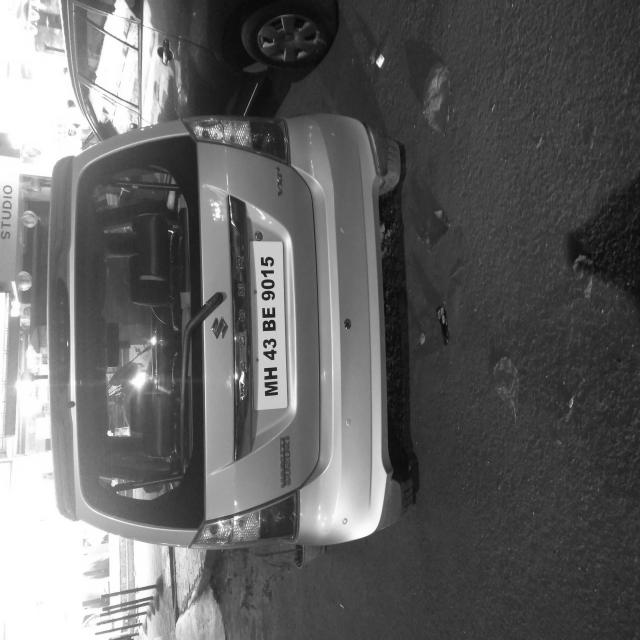car: (59, 37, 406, 572)
license-plate: (171, 326, 300, 396)
